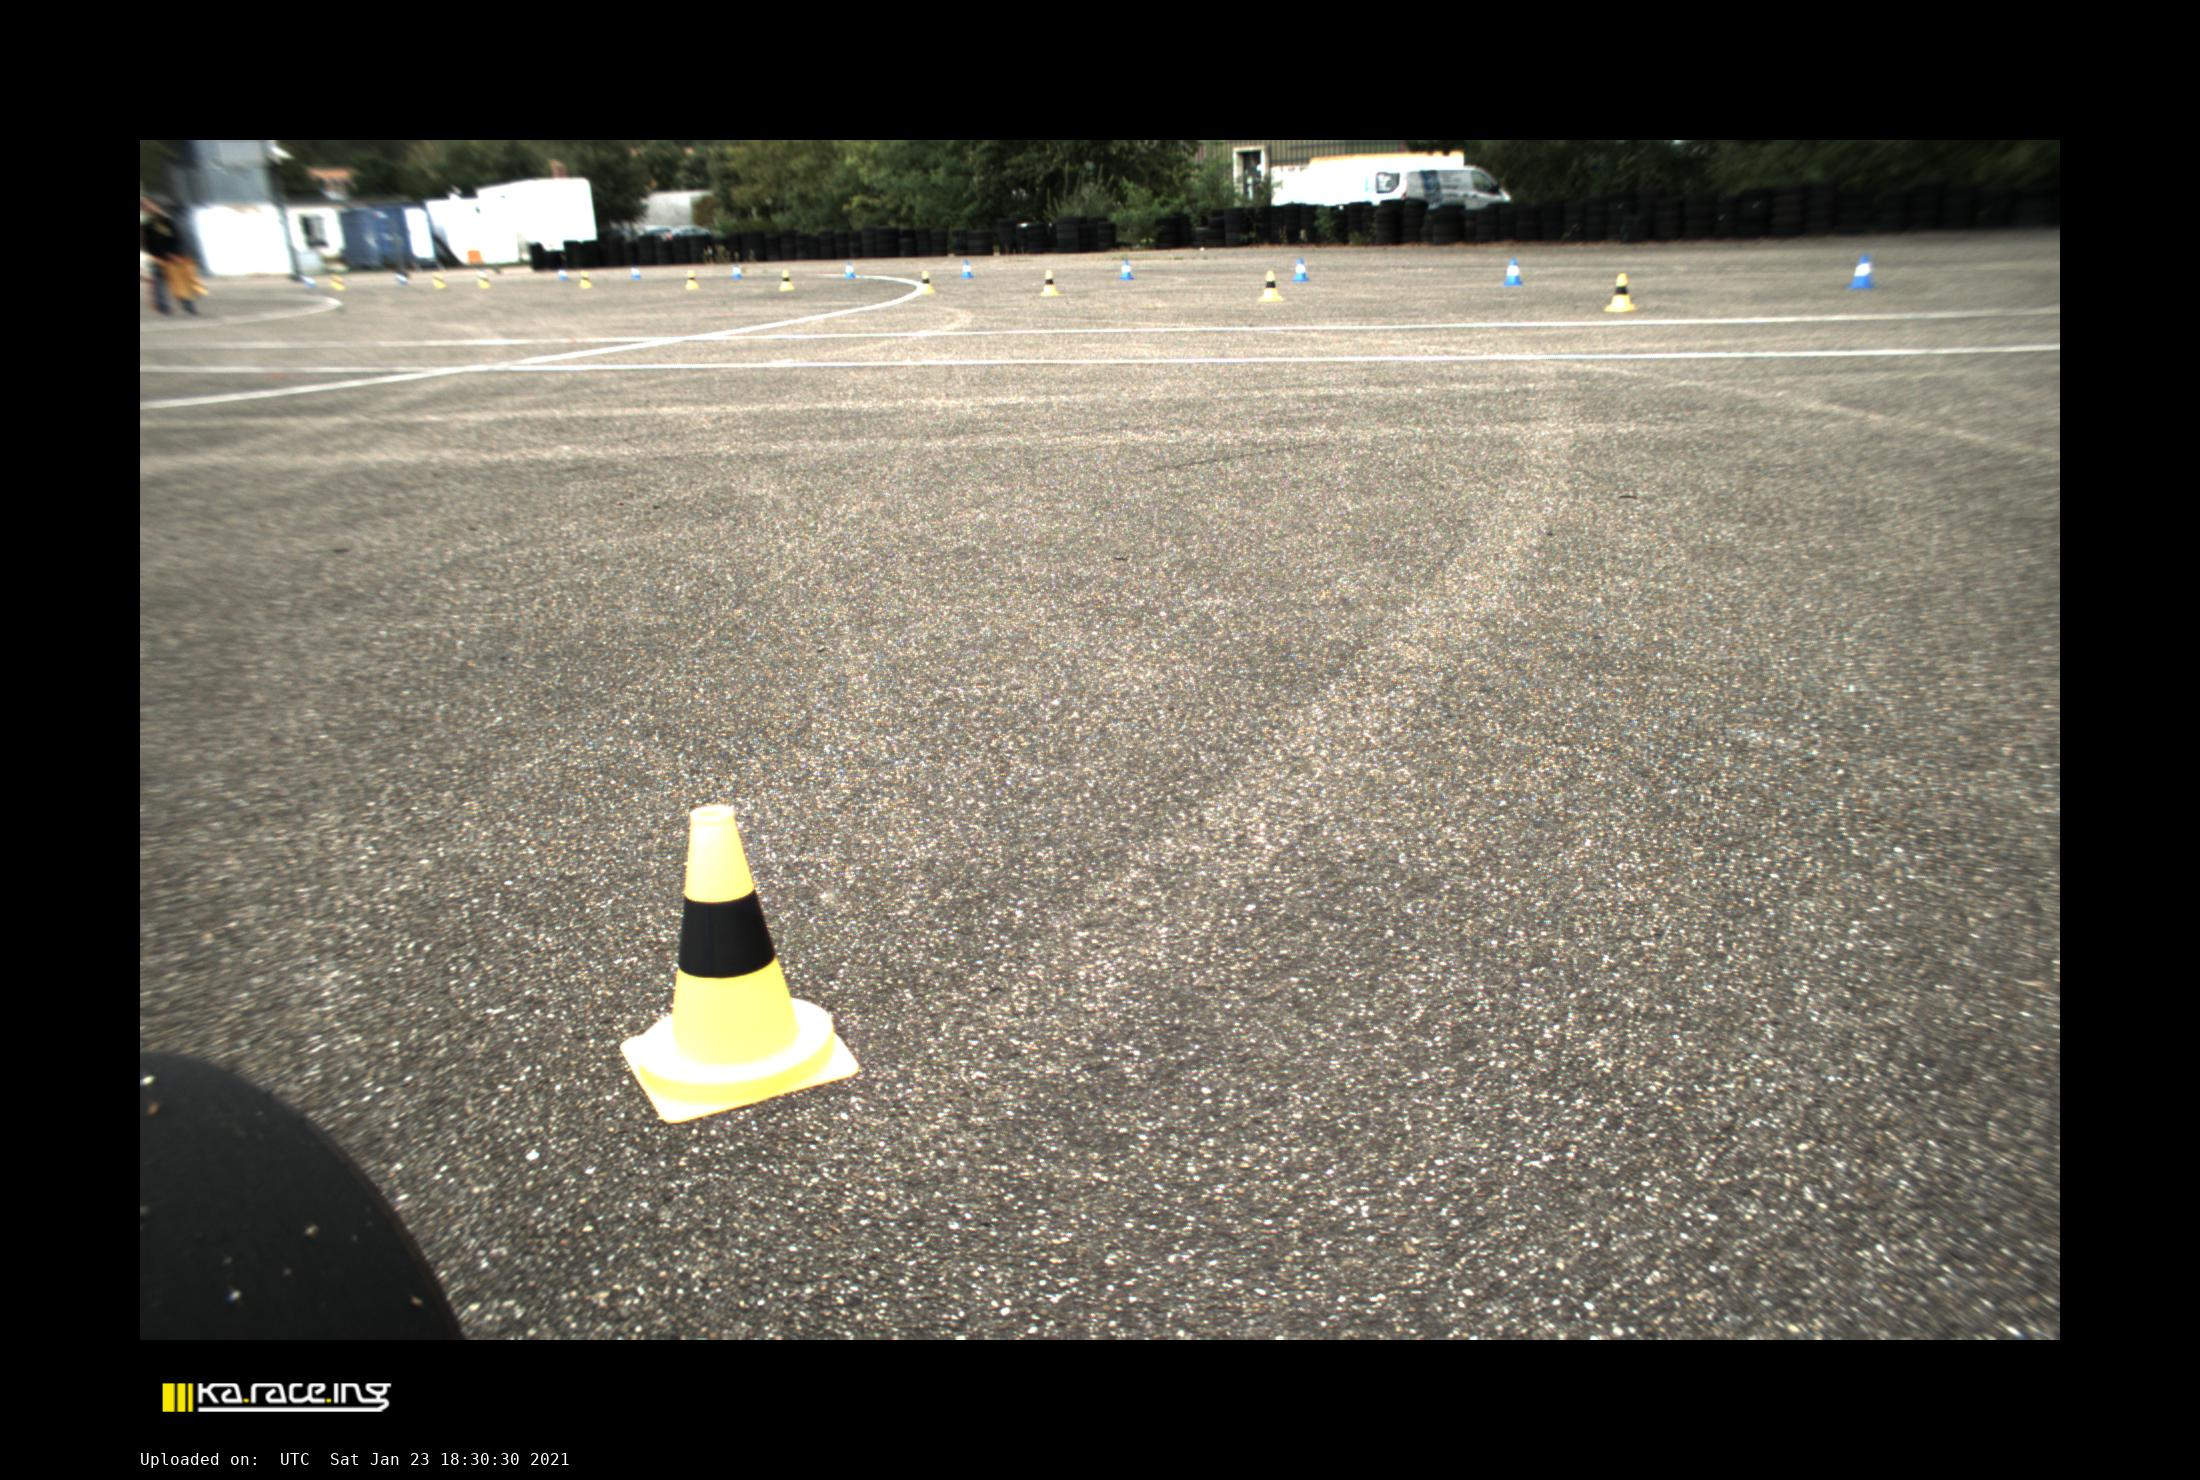blue_cone: (1848, 254, 1873, 289), (1503, 258, 1523, 286), (1292, 258, 1310, 282), (1120, 259, 1135, 281), (960, 259, 974, 277), (842, 261, 856, 279), (629, 264, 642, 281), (395, 269, 408, 286), (301, 274, 315, 287), (557, 266, 568, 281), (732, 264, 742, 279)
yellow_cone: (619, 804, 857, 1123), (1605, 273, 1635, 312), (1259, 271, 1283, 302), (1041, 269, 1059, 296), (920, 269, 935, 294), (192, 277, 210, 296), (780, 269, 794, 291), (685, 269, 699, 291), (330, 273, 345, 291), (433, 271, 446, 289), (477, 273, 491, 289), (580, 271, 591, 287)
